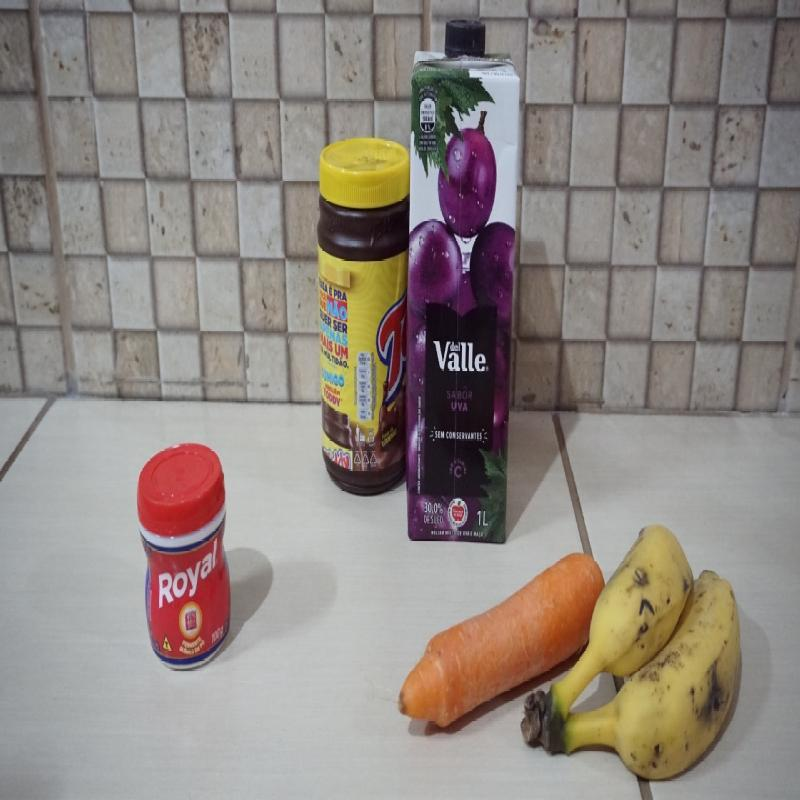Banana: (527, 527, 745, 776)
Carrot: (398, 556, 607, 730)
Chocolate Powder: (318, 141, 409, 497)
Yeast: (135, 444, 232, 674)
